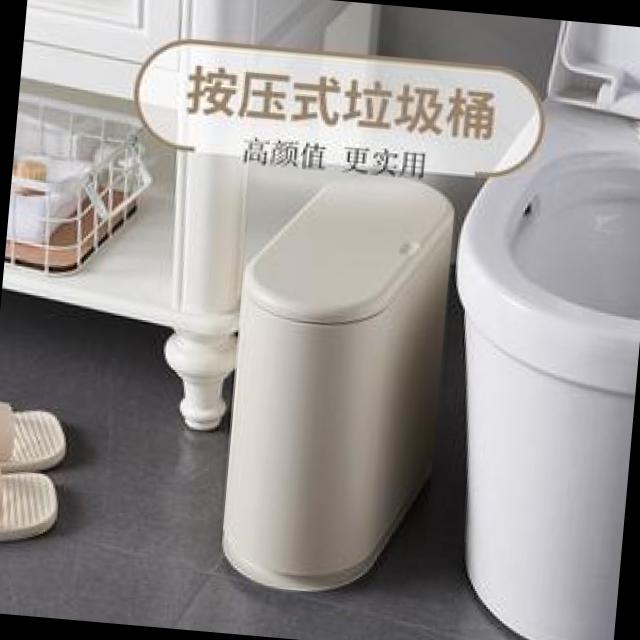dustbin: (212, 160, 465, 609)
